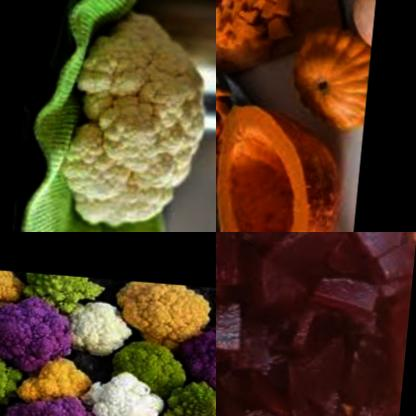beet: (216, 232, 416, 416)
cayliflower: (57, 0, 216, 232), (118, 274, 214, 349), (0, 285, 77, 367), (107, 320, 194, 391), (65, 287, 141, 351), (18, 267, 119, 315), (18, 347, 93, 409), (86, 363, 171, 416), (176, 311, 216, 386), (163, 366, 216, 416), (0, 340, 24, 413), (0, 263, 28, 315)
pumpkin: (216, 87, 351, 232), (288, 15, 376, 122), (216, 0, 305, 54), (216, 72, 240, 190), (346, 0, 381, 46)
